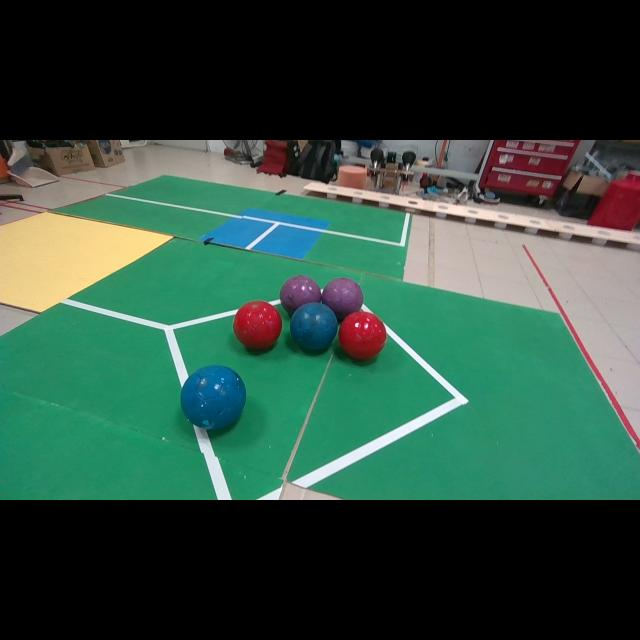B: (180, 365, 246, 429), (290, 302, 338, 350)
P: (321, 278, 364, 320), (280, 275, 321, 316)
R: (232, 300, 282, 350), (339, 311, 386, 360)
